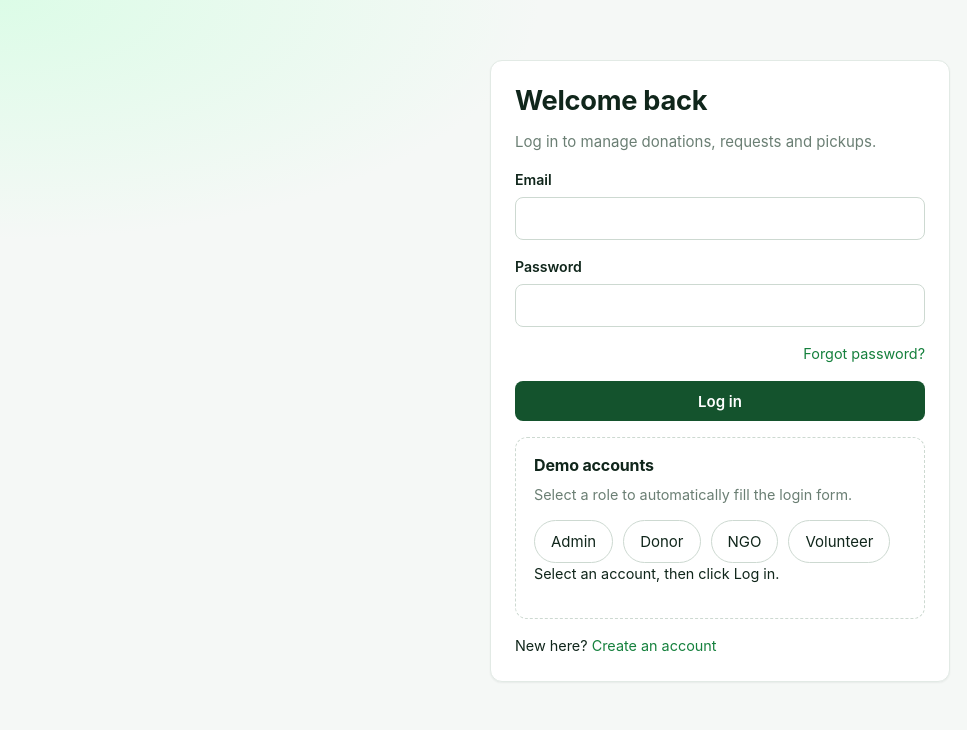
Scenario: Login page › shows the server error message and re-enables the form
In the field labelled "Email": (720, 218) x1=515 y1=197 x2=925 y2=240, type "a@b.co"
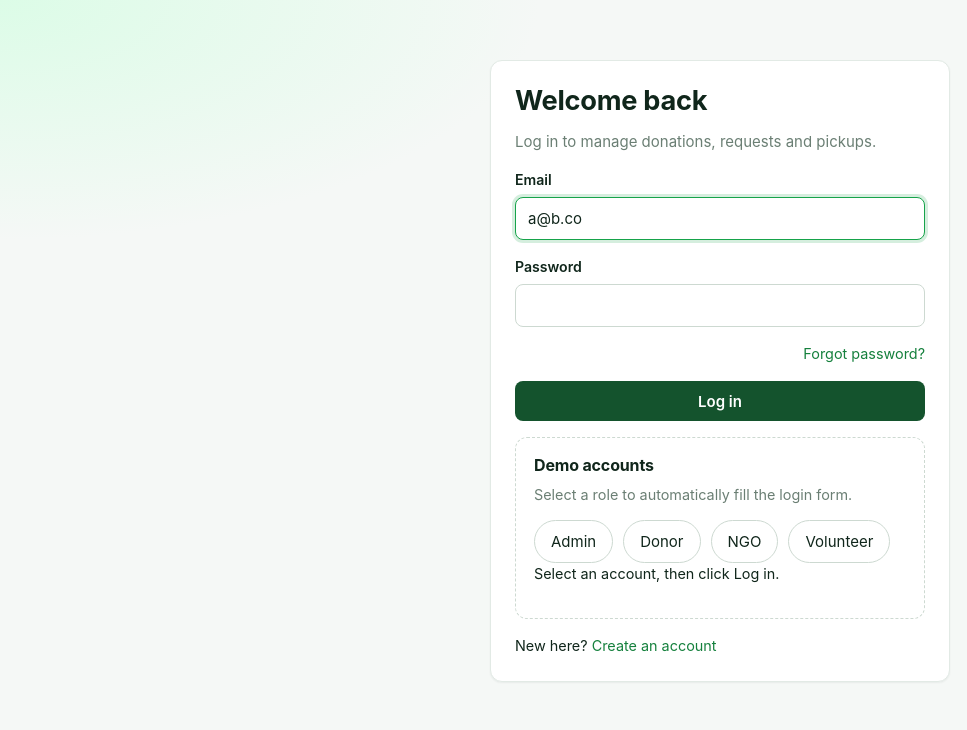
In the password field labelled "Password": (720, 306) x1=515 y1=284 x2=925 y2=327, type "wrong"
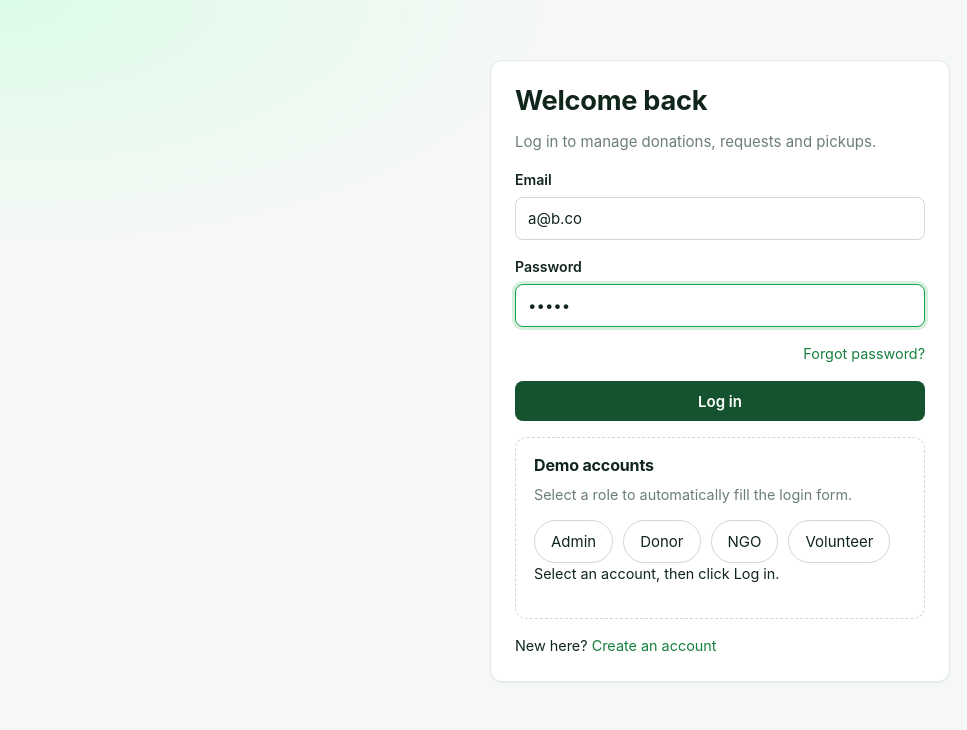
Click the button "Log in": (720, 402) x1=515 y1=382 x2=925 y2=422
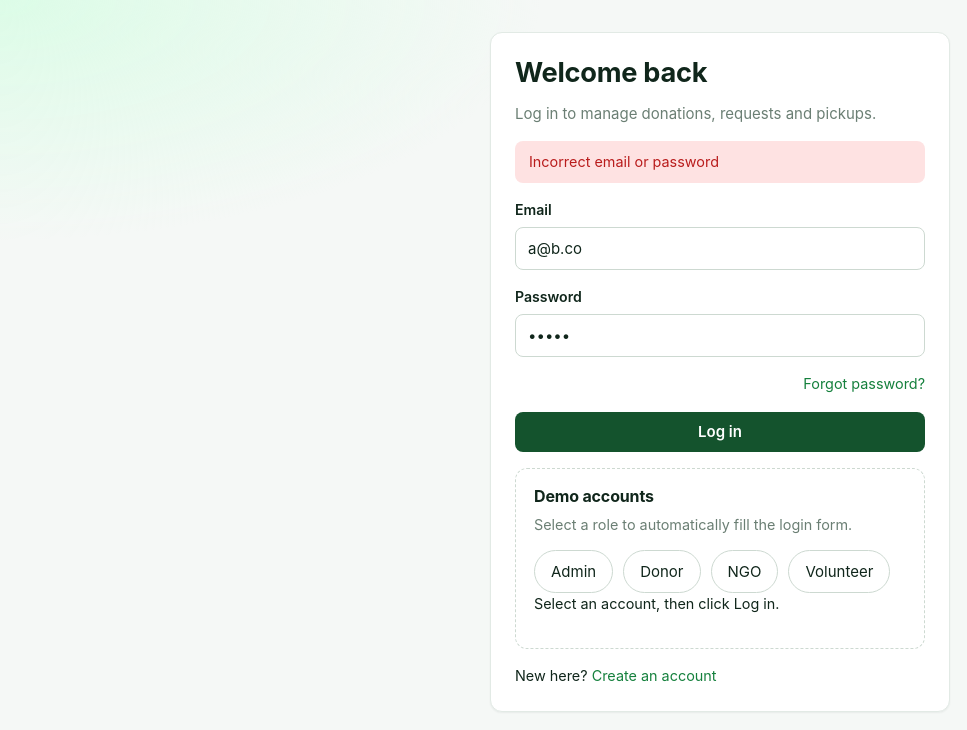
Expected: the button "Log in" is enabled, x1=515 y1=412 x2=925 y2=452
Now the message reads "Incorrect email or password", box x1=529 y1=153 x2=719 y2=170
